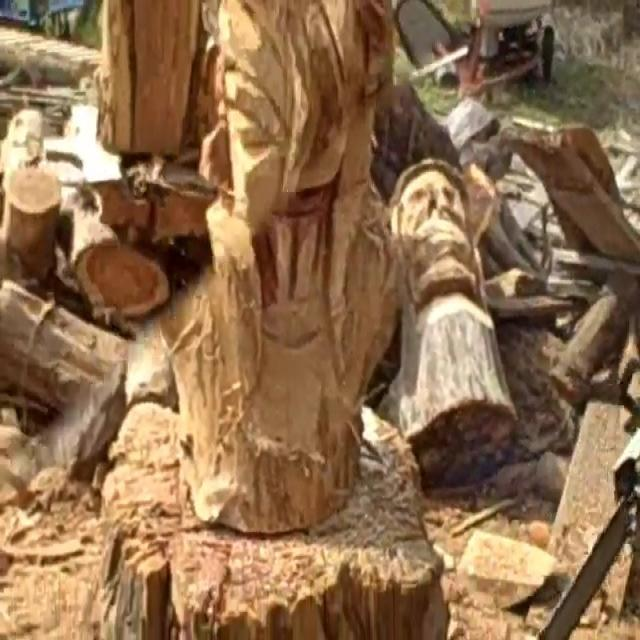Chainsaw: (501, 352, 640, 640)
